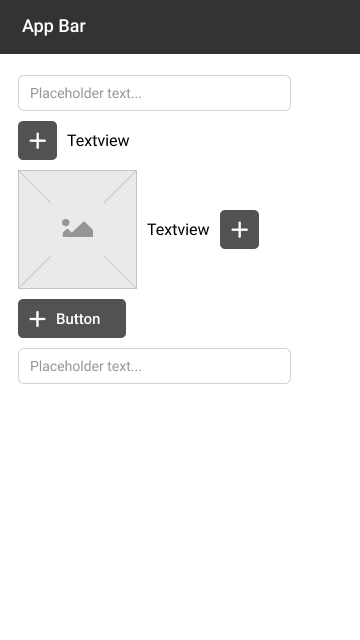buttonIcon: (217, 207, 262, 251), (18, 120, 59, 162)
buttonImage: (16, 298, 128, 339)
editText: (16, 73, 292, 113), (17, 346, 292, 385)
imageView: (16, 166, 140, 290)
textView: (66, 132, 134, 149), (149, 221, 211, 239)
toolbar: (1, 1, 360, 55)
